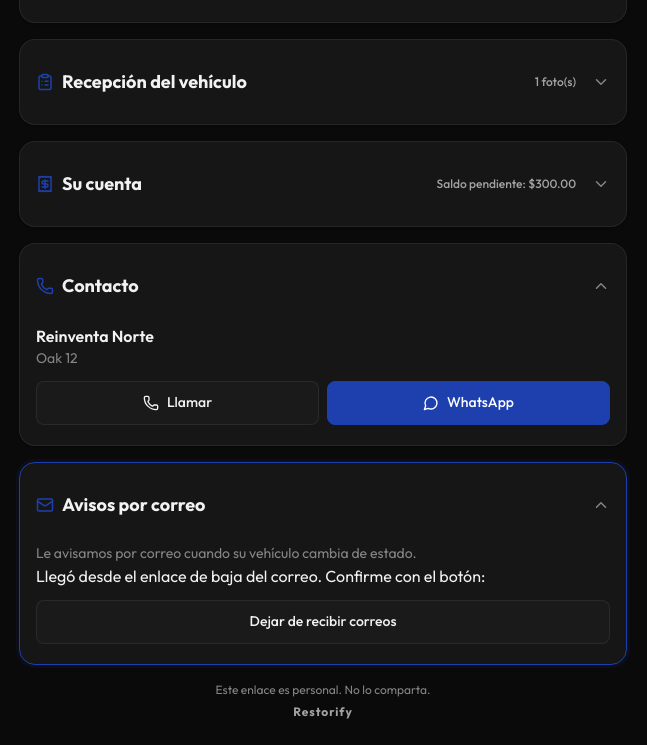
Test: CustomerPortal › la baja de correos se confirma con un botón, nunca al abrir el enlace
(page scrolled)
Step 1. Click the button "Dejar de recibir correos" → (323, 622), box [36,600,610,644]
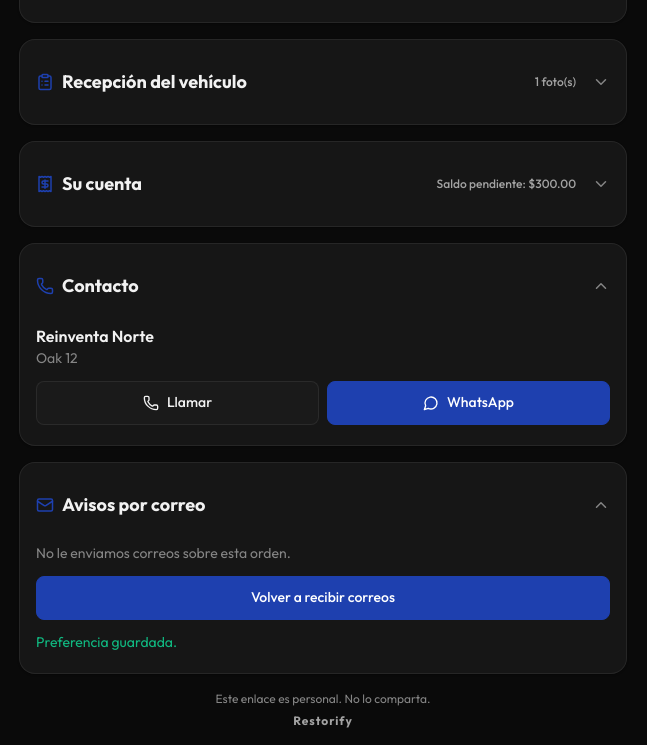
Expected: the button "Volver a recibir correos" is shown, [36,576,610,620]
